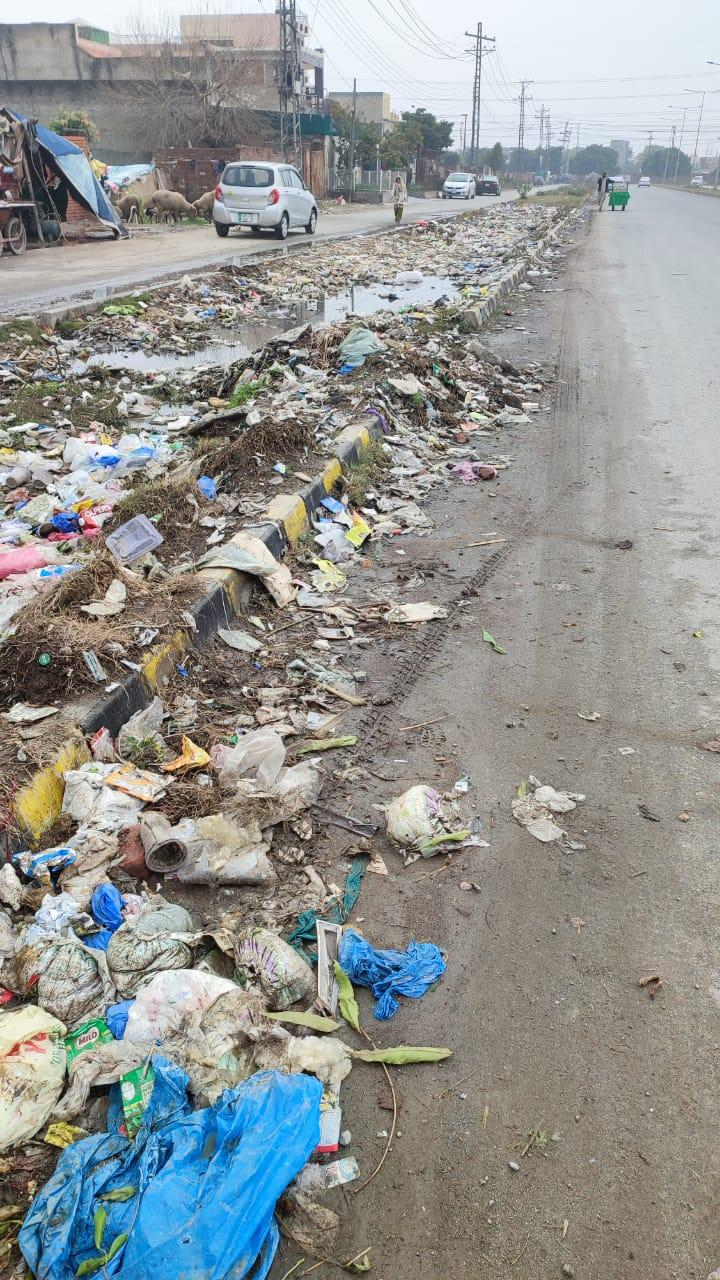garbage: (0, 278, 504, 1260)
